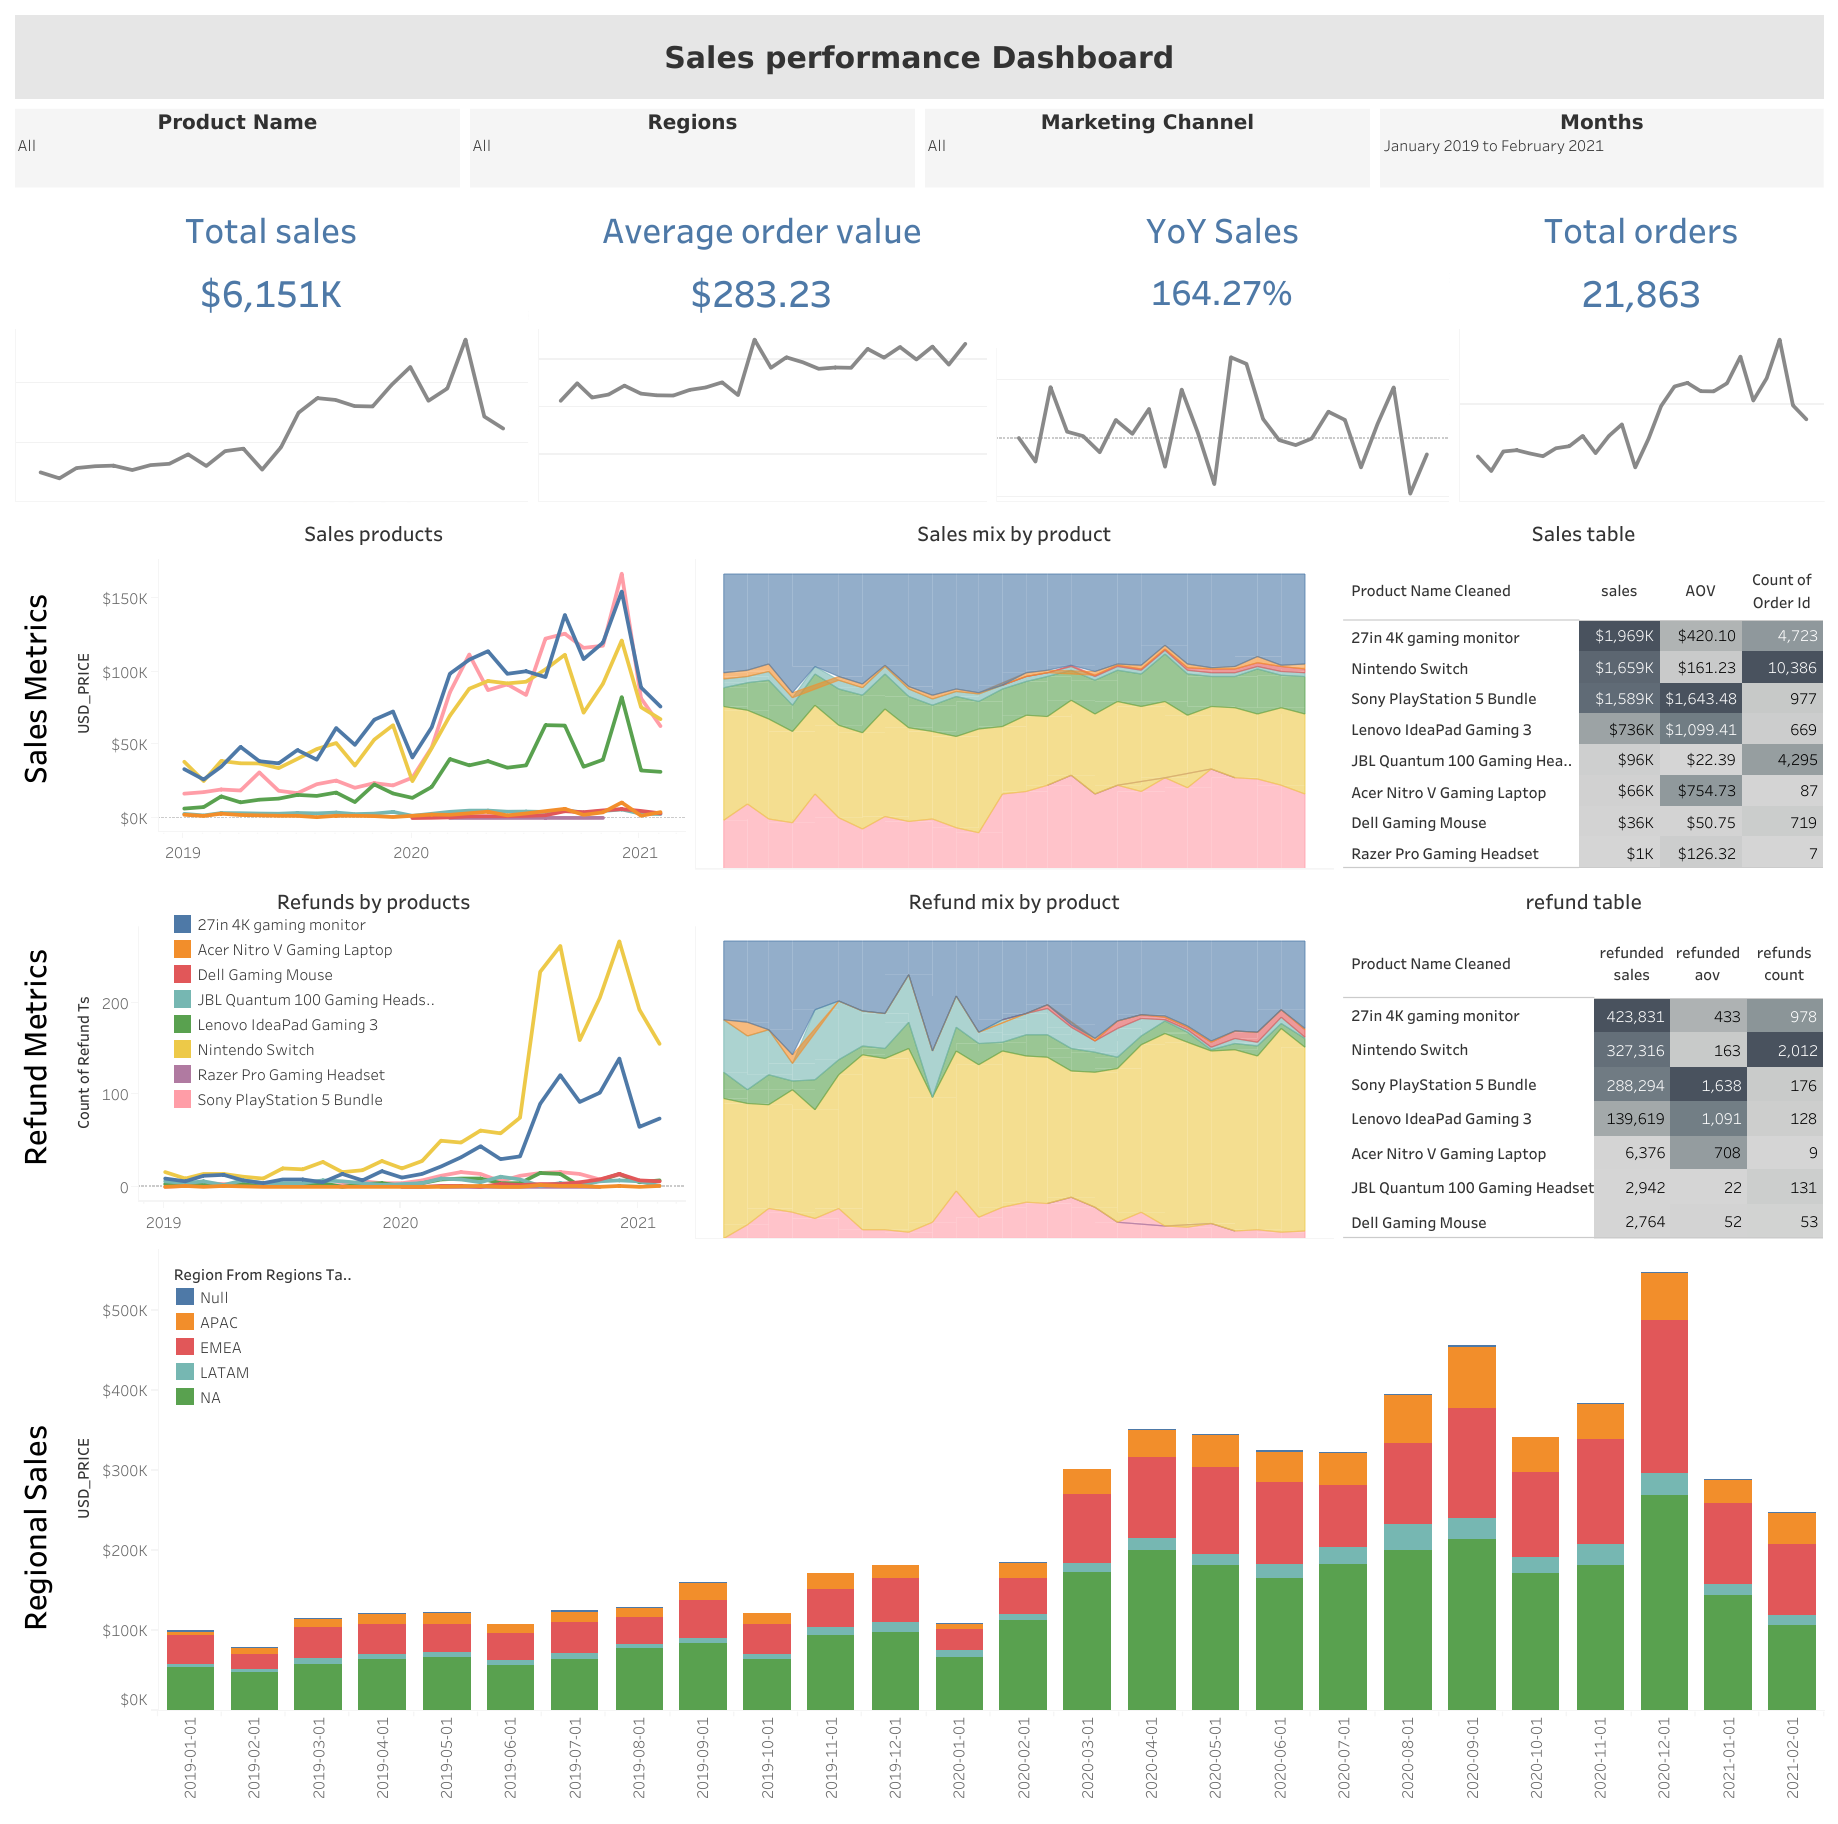

Layout of this report page (visuals, bound fields, positions):
{"tool":"tableau","page":{"name":"FINAL Sales Performance dashboard","canvas":[1000,1000],"units":"permille","ordinal":0},"visuals":[{"type":"title","box":[4.3,5.5,991.5,51.4]},{"type":"filter","title":"Sales products","param":"[federated.07vzxun1swtouo18yxu250i5ojma].[none:product name cleaned:nk]","box":[4.3,56.9,247.9,43.1]},{"type":"filter","title":"Sales products","param":"[federated.07vzxun1swtouo18yxu250i5ojma].[none:region from regions table:nk]","box":[252.1,56.9,247.9,43.1]},{"type":"filter","title":"Sales products","param":"[federated.07vzxun1swtouo18yxu250i5ojma].[none:MARKETING CHANNEL CLEANED:nk]","box":[500,56.9,247.9,43.1]},{"type":"filter","title":"Sales products","param":"[federated.07vzxun1swtouo18yxu250i5ojma].[tmn:purchase_ts cleaned:qk]","box":[747.9,56.9,247.9,43.1]},{"type":"worksheet","title":"Total sales","mark":"Automatic","box":[4.3,100,284.6,72.8]},{"type":"worksheet","title":"AOV","mark":"Automatic","box":[288.9,100,250.5,72.8]},{"type":"worksheet","title":"YoY","mark":"Automatic","rows":["purchase_ts cleaned"],"box":[539.4,100,252.1,72.8]},{"type":"worksheet","title":"Total orders","mark":"Automatic","box":[791.5,100,204.2,72.8]},{"type":"worksheet","title":"sales graph","mark":"Automatic","rows":["USD_PRICE"],"cols":["purchase_ts cleaned"],"box":[4.3,172.8,284.6,100.5]},{"type":"worksheet","title":"aov(average order value graph","mark":"Automatic","rows":["Calculation_2180642747252736"],"cols":["PURCHASE_TS"],"box":[288.9,172.8,250.5,100.5]},{"type":"worksheet","title":"YOY GRAPH","mark":"Automatic","rows":["Calculation_2180643781869574"],"cols":["purchase_ts cleaned"],"box":[539.4,172.8,252.1,100.5]},{"type":"worksheet","title":"Total orders graph","mark":"Automatic","rows":["ORDER_ID"],"cols":["PURCHASE_TS"],"box":[791.5,172.8,204.2,100.5]},{"type":"text","box":[4.3,273.3,26.1,203.6]},{"type":"worksheet","title":"Sales products","mark":"Automatic","rows":["USD_PRICE"],"cols":["PURCHASE_TS"],"box":[30.4,273.3,344.5,203.6]},{"type":"worksheet","title":"Sales mix by product","mark":"Area","cols":["PURCHASE_TS"],"box":[374.8,273.3,353.7,203.6]},{"type":"worksheet","title":"Sales table","mark":"Square","rows":["product name cleaned"],"box":[728.5,273.3,267.2,203.6]},{"type":"text","box":[4.3,476.9,26.1,204.3]},{"type":"worksheet","title":"Refunds by products","mark":"Automatic","rows":["REFUND_TS"],"cols":["PURCHASE_TS"],"box":[30.4,476.9,344.5,204.3]},{"type":"worksheet","title":"Refund mix by product","mark":"Area","cols":["PURCHASE_TS"],"box":[374.8,476.9,353.7,204.3]},{"type":"worksheet","title":"Refund table","mark":"Square","rows":["product name cleaned"],"box":[728.5,476.9,267.2,204.3]},{"type":"legend","title":"Sales products","param":"[federated.07vzxun1swtouo18yxu250i5ojma].[none:product name cleaned:nk]","box":[92.2,499.4,147,128.8]},{"type":"text","box":[4.3,681.2,26.1,313.3]},{"type":"worksheet","title":"revenue by regions","mark":"Bar","rows":["USD_PRICE"],"cols":["purchase_ts cleaned"],"box":[30.4,681.2,965.4,313.3]},{"type":"legend","title":"revenue by regions","param":"[federated.07vzxun1swtouo18yxu250i5ojma].[none:region from regions table:nk]","box":[94.2,690.4,100.5,100.6]}]}

Visuals, with their boxes on the dashboard's canvas, which has no fixed pixel size, in thousandths of its width and height (x1, y1, x2, y2). These are canvas units, not pixel positions in the 1838x1824 screenshot, which may show the page scaled, cropped or inside an application window:
title: bbox(4, 6, 996, 57)
"Sales products" filter: bbox(4, 57, 252, 100)
"Sales products" filter: bbox(252, 57, 500, 100)
"Sales products" filter: bbox(500, 57, 748, 100)
"Sales products" filter: bbox(748, 57, 996, 100)
"Total sales" worksheet: bbox(4, 100, 289, 173)
"AOV" worksheet: bbox(289, 100, 539, 173)
"YoY" worksheet: bbox(539, 100, 792, 173)
"Total orders" worksheet: bbox(792, 100, 996, 173)
"sales graph" worksheet: bbox(4, 173, 289, 273)
"aov(average order value graph" worksheet: bbox(289, 173, 539, 273)
"YOY GRAPH" worksheet: bbox(539, 173, 792, 273)
"Total orders graph" worksheet: bbox(792, 173, 996, 273)
text: bbox(4, 273, 30, 477)
"Sales products" worksheet: bbox(30, 273, 375, 477)
"Sales mix by product" worksheet (Area marks): bbox(375, 273, 728, 477)
"Sales table" worksheet (Square marks): bbox(728, 273, 996, 477)
text: bbox(4, 477, 30, 681)
"Refunds by products" worksheet: bbox(30, 477, 375, 681)
"Refund mix by product" worksheet (Area marks): bbox(375, 477, 728, 681)
"Refund table" worksheet (Square marks): bbox(728, 477, 996, 681)
"Sales products" legend: bbox(92, 499, 239, 628)
text: bbox(4, 681, 30, 994)
"revenue by regions" worksheet (Bar marks): bbox(30, 681, 996, 994)
"revenue by regions" legend: bbox(94, 690, 195, 791)
